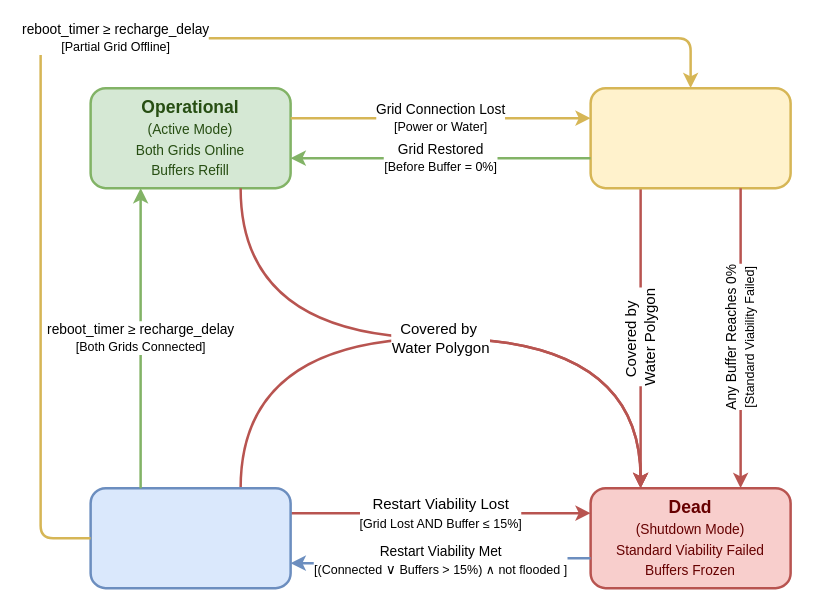
Image size: 813x610. Some labels were removed from this diagram. Here are the shapes that lost their labels. From the top down, the centre of each, then its label:
At (690,137): "Depleting (Backup Mode) 1 or 2 Grids Offline Buffers Decay".
At (190,537): "Rebooting (Booting Up Mode) Restart Viability Met reboot_timer Ticking".
